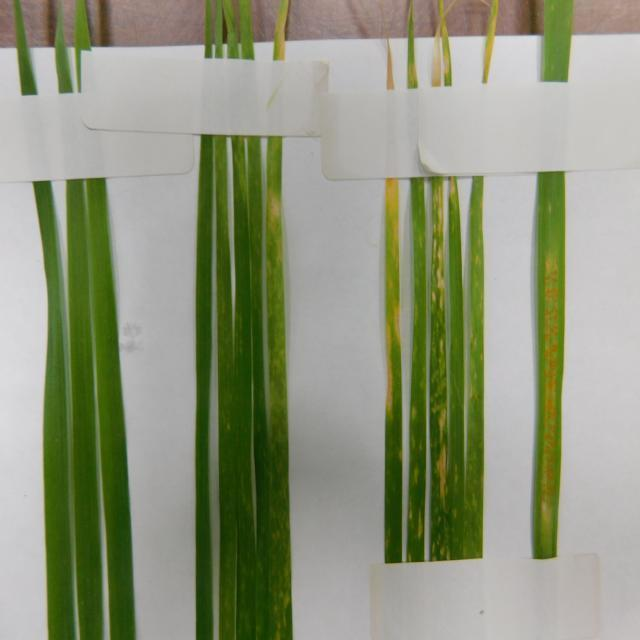Yellow_Rust: (384, 177, 402, 562), (379, 2, 394, 88)
